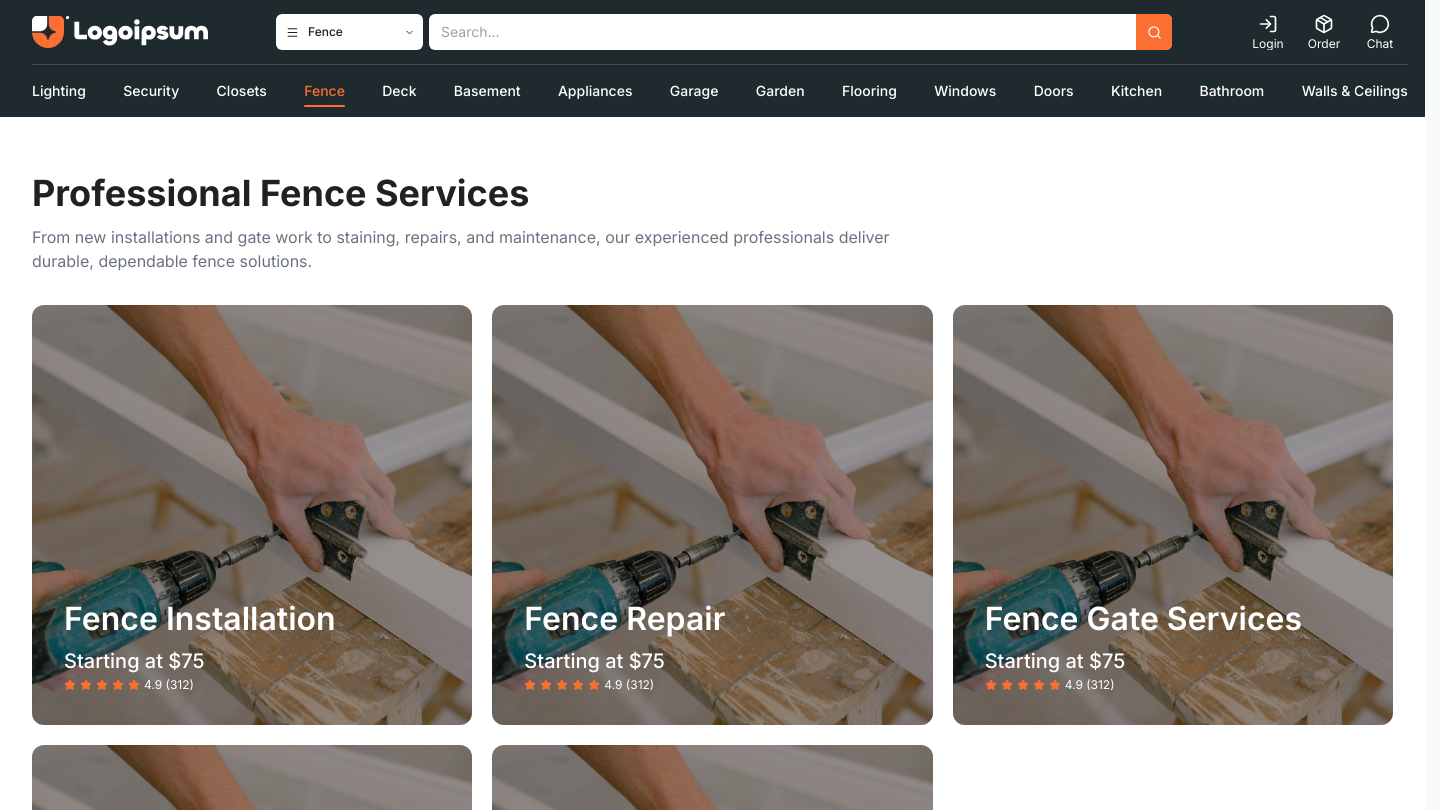
Test: Fence page › opens child services when a subcategory card is clicked
Click the button "Fence Gate Services": [1173, 515] box [953, 305, 1393, 725]
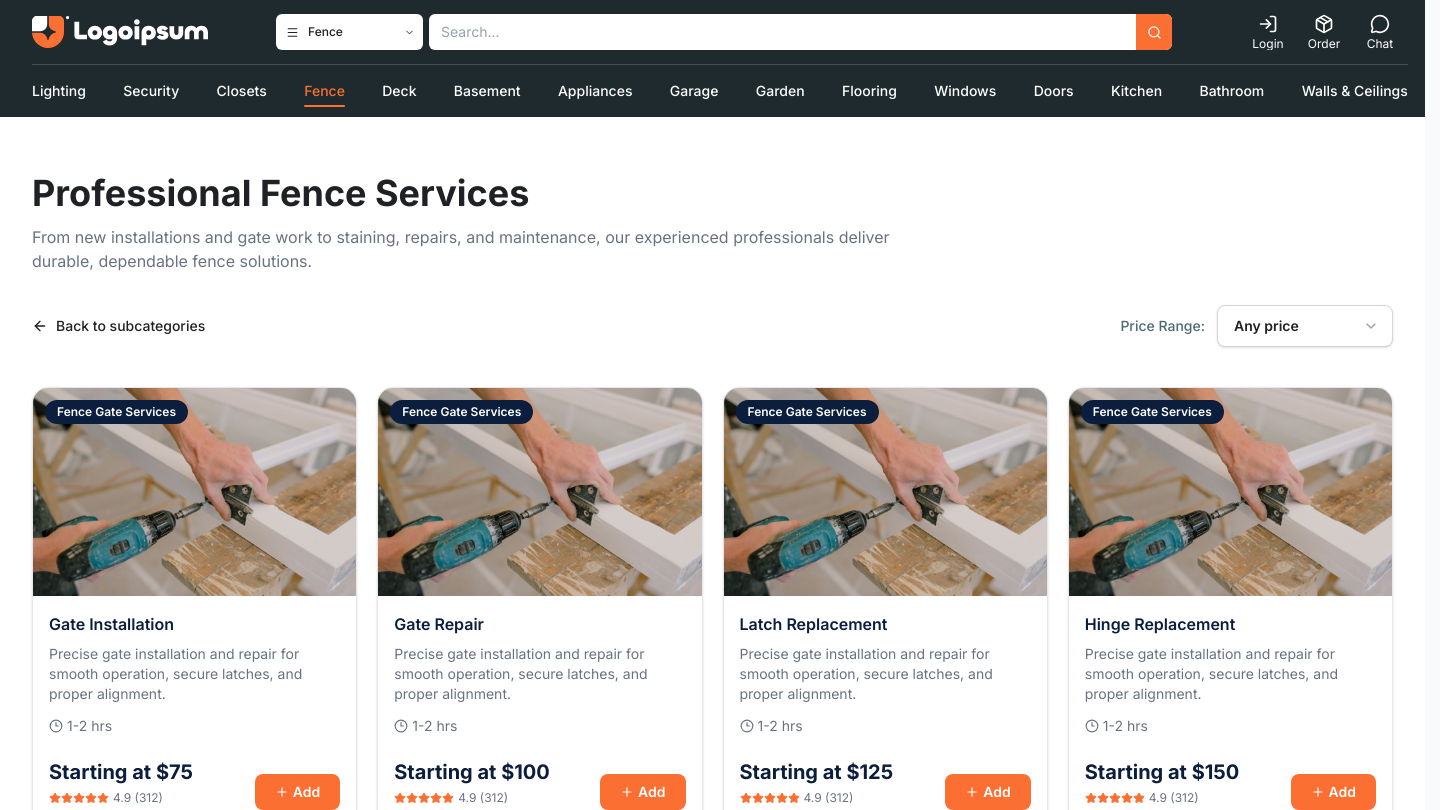
Expected: the heading "Gate Installation" is shown, [49, 614, 174, 634]
Expected: the button "Back to subcategories" is shown, [32, 316, 205, 336]
